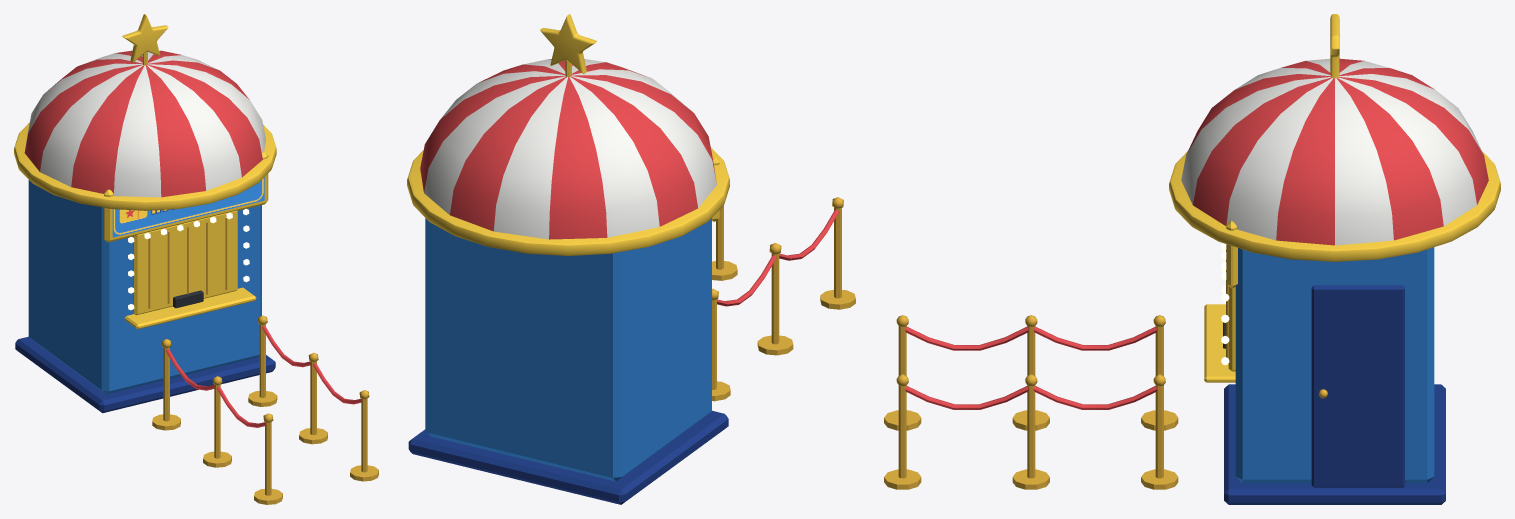
File: bilheteria_ingressos.glb
The picture shows the model from 3 angles, left to right: view 1: azimuth 30°, elevation 25°; view 2: azimuth 150°, elevation 25°; view 3: azimuth 270°, elevation 25°; orthographic projection. The views are drawn at different scales.
Parts seen in each view (by area): view 1: bilheteria_ingressos, lampadas; view 2: bilheteria_ingressos; view 3: bilheteria_ingressos.
Part boxes in pixels (left/top/right/bottom): bilheteria_ingressos: left=14, top=14, right=378, bottom=504; lampadas: left=128, top=209, right=249, bottom=310; bilheteria_ingressos: left=407, top=14, right=855, bottom=504; bilheteria_ingressos: left=884, top=14, right=1500, bottom=504.
Size of the model in its own units: 2.84 by 4.14 by 5.28.
Materials: 4 (2 with a texture image).
